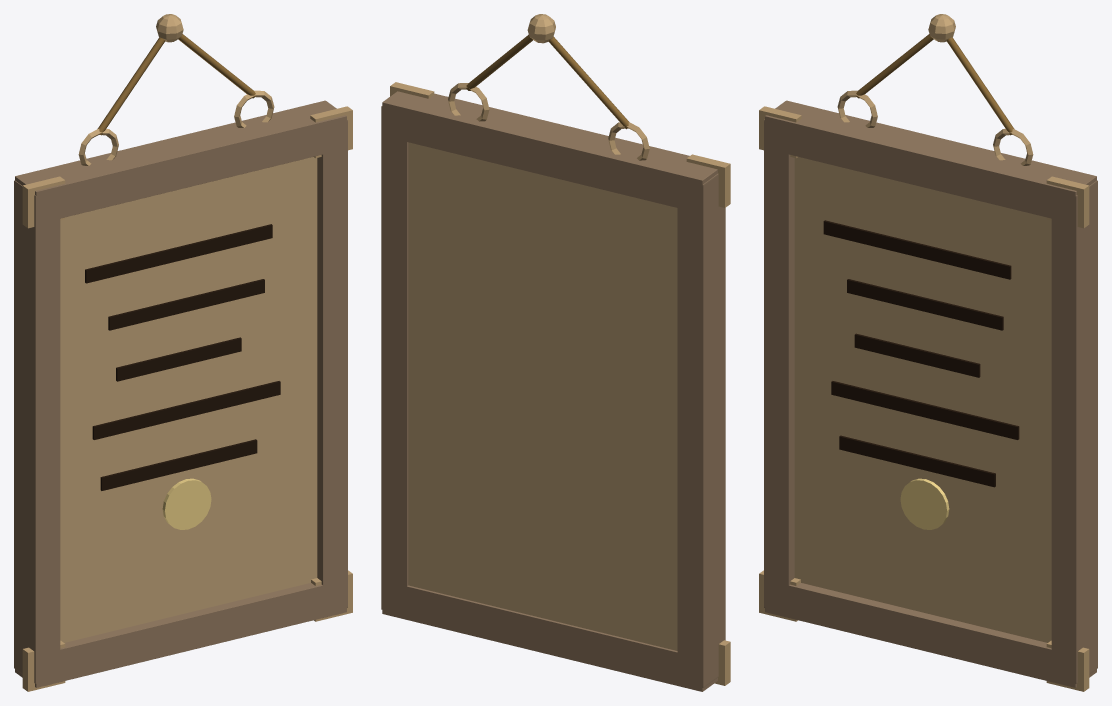
The model's file is obj_kit_colplaque.glb.
The picture shows the model from 3 angles, left to right: view 1: azimuth 30°, elevation 25°; view 2: azimuth 150°, elevation 25°; view 3: azimuth 330°, elevation 25°; orthographic projection. The views are drawn at different scales.
Visible parts, largest first — view 1: Cube, Cube.003, Cube.001, Cube.004, Cube.002, Cube.012, Cube.009, Cube.013, Cube.010, Cylinder, Cube.011, cord (+7 smaller); view 2: Cube, Cube.003, Cube.001, Cube.004, Cube.002, cord, Cube.005, Sphere, cord.001, Cube.006, Torus, Torus.001; view 3: Cube, Cube.004, Cube.001, Cube.003, Cube.002, Cube.012, Cube.009, Cube.013, Cube.010, Cylinder, Cube.011, cord.001 (+7 smaller).
Part boxes in pixels (x1=…): Cube: x1=60, y1=157, x2=317, y2=642; Cube.003: x1=14, y1=180, x2=60, y2=683; Cube.001: x1=15, y1=100, x2=346, y2=223; Cube.004: x1=317, y1=119, x2=347, y2=612; Cube.002: x1=15, y1=580, x2=346, y2=687; Cube.012: x1=92, y1=381, x2=280, y2=439; Cube.009: x1=85, y1=224, x2=272, y2=283; Cube.013: x1=100, y1=439, x2=257, y2=490; Cube.010: x1=108, y1=279, x2=264, y2=330; Cylinder: x1=162, y1=478, x2=211, y2=529; Cube.011: x1=116, y1=337, x2=241, y2=381; cord: x1=97, y1=37, x2=165, y2=135; Cube: x1=408, y1=142, x2=677, y2=650; Cube.003: x1=677, y1=173, x2=725, y2=687; Cube.001: x1=382, y1=91, x2=717, y2=213; Cube.004: x1=381, y1=106, x2=408, y2=613; Cube.002: x1=382, y1=581, x2=717, y2=691; cord: x1=548, y1=36, x2=628, y2=129; Cube.005: x1=686, y1=154, x2=730, y2=207; Sphere: x1=527, y1=14, x2=555, y2=43; cord.001: x1=466, y1=34, x2=532, y2=90; Cube.006: x1=714, y1=640, x2=730, y2=685; Torus: x1=608, y1=122, x2=649, y2=160; Torus.001: x1=448, y1=83, x2=489, y2=121; Cube: x1=794, y1=157, x2=1051, y2=642; Cube.004: x1=1051, y1=180, x2=1097, y2=683; Cube.001: x1=765, y1=100, x2=1096, y2=223; Cube.003: x1=764, y1=119, x2=794, y2=612; Cube.002: x1=765, y1=580, x2=1096, y2=687; Cube.012: x1=831, y1=381, x2=1019, y2=439; Cube.009: x1=823, y1=220, x2=1011, y2=279; Cube.013: x1=839, y1=435, x2=995, y2=487; Cube.010: x1=847, y1=279, x2=1003, y2=330; Cylinder: x1=900, y1=478, x2=949, y2=529; Cube.011: x1=854, y1=333, x2=980, y2=377; cord.001: x1=946, y1=37, x2=1014, y2=135.
Bounding box in the file's own units: 0.418 × 0.765 × 0.065.
